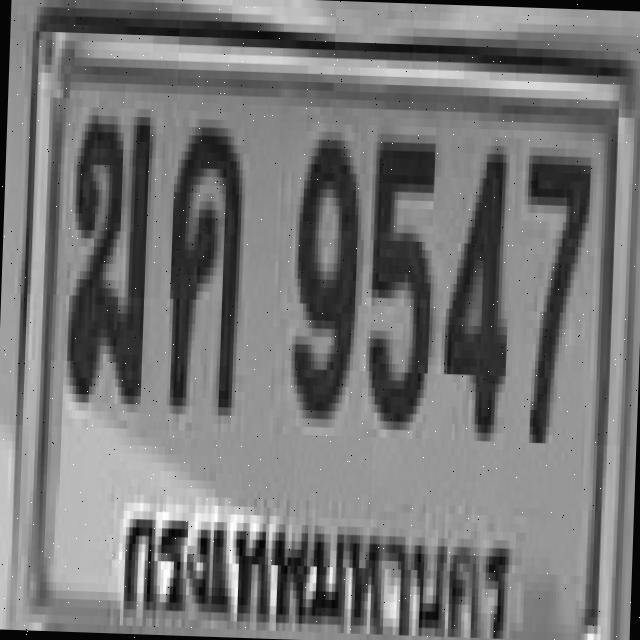13KhorKhwai: (163, 118, 244, 407)
15KhorRaKhang: (62, 106, 150, 396)
4: (438, 136, 510, 433)
5: (364, 133, 435, 422)
7: (516, 147, 587, 436)
9: (286, 130, 357, 412)
Bangkok: (112, 485, 521, 640)
